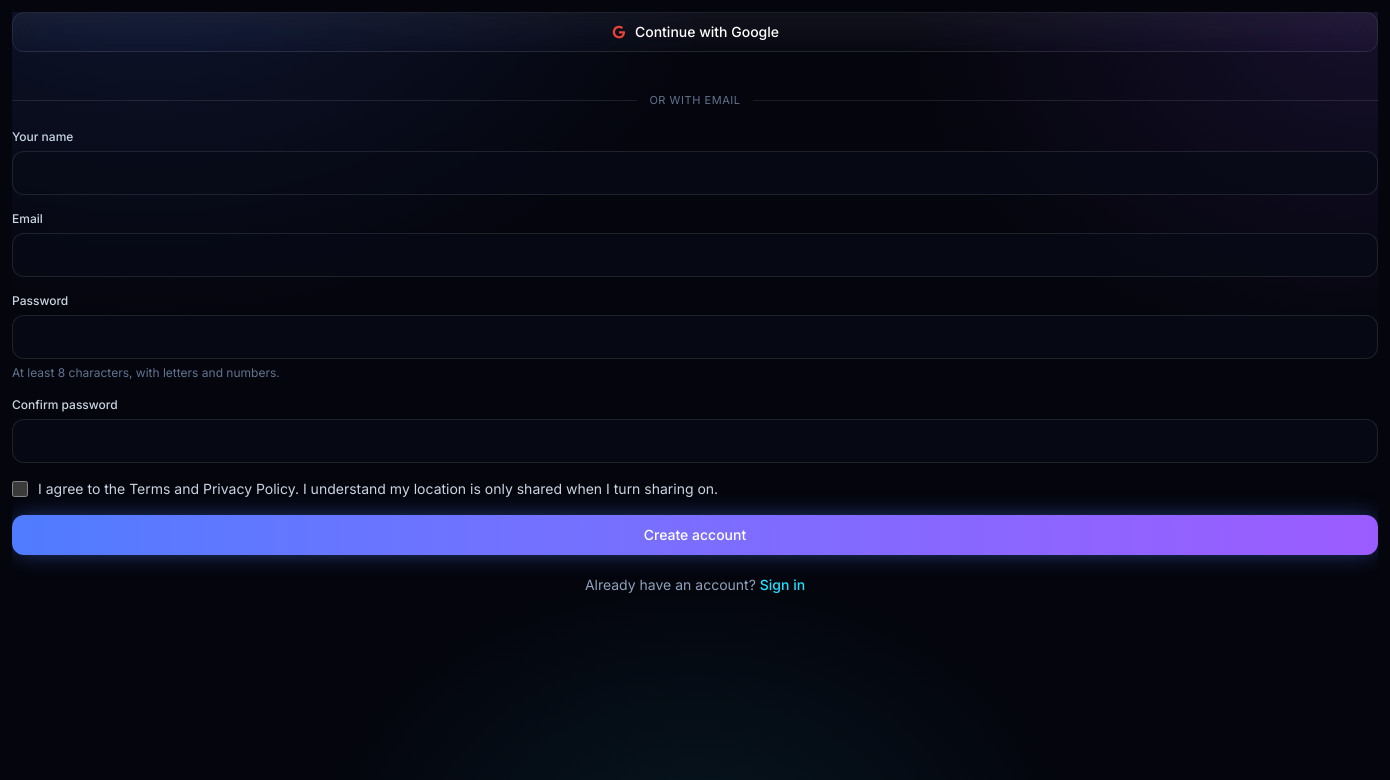
Scenario: RegisterForm › rejects mismatched passwords
Type "Ann Lee" into the field labelled "Your name" at (695, 172), box [12,150,1378,194]
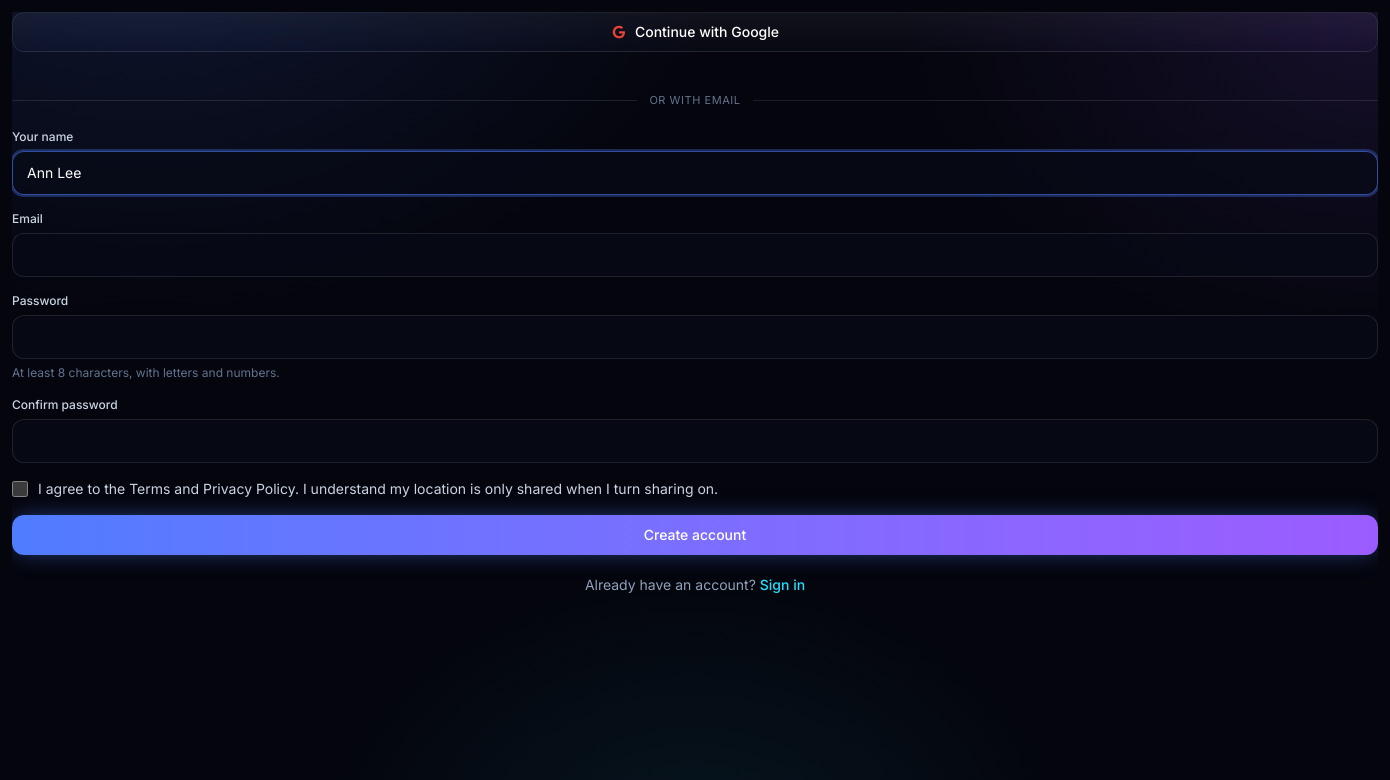
Type "ann@example.com" into the field labelled "Email" at (695, 254), box [12,232,1378,276]
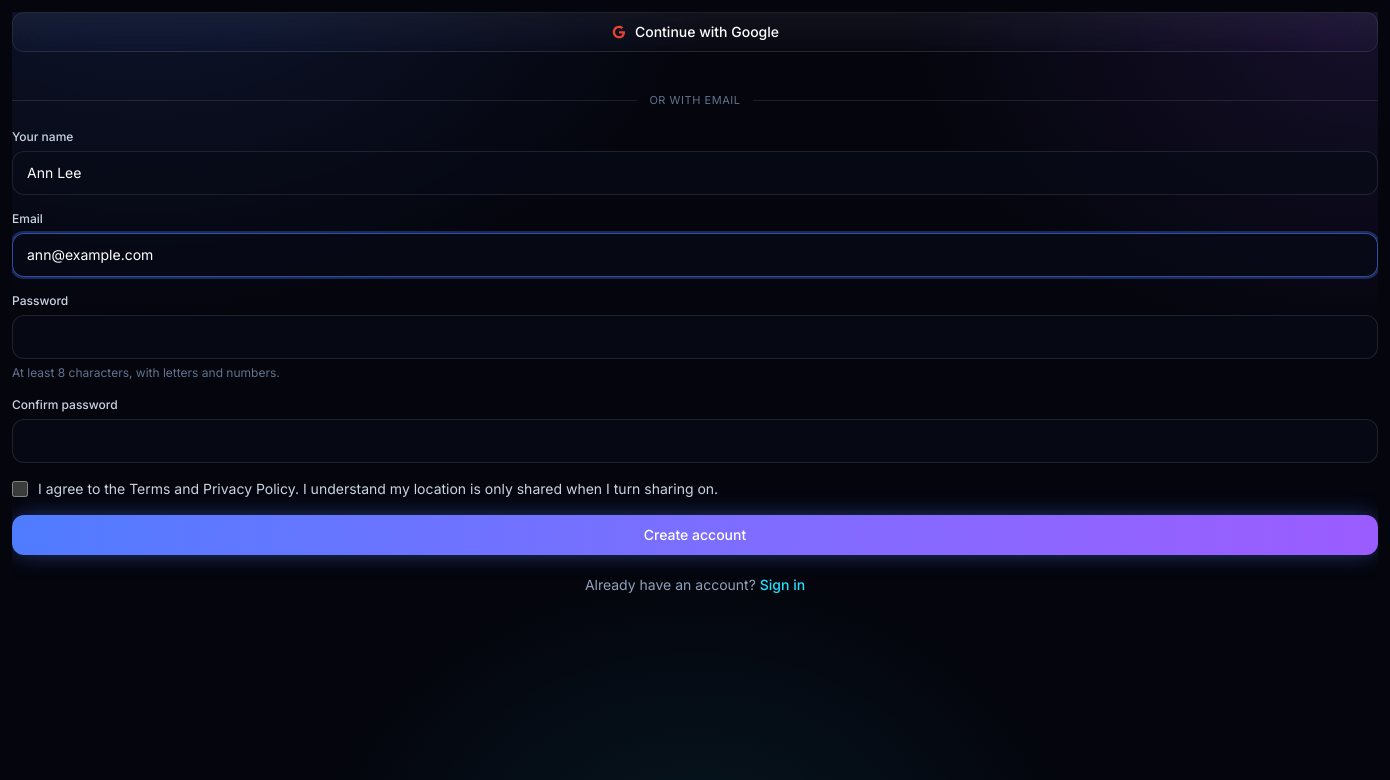
Type "safe1234" into the password field labelled "Password" at (695, 336), box [12,314,1378,358]
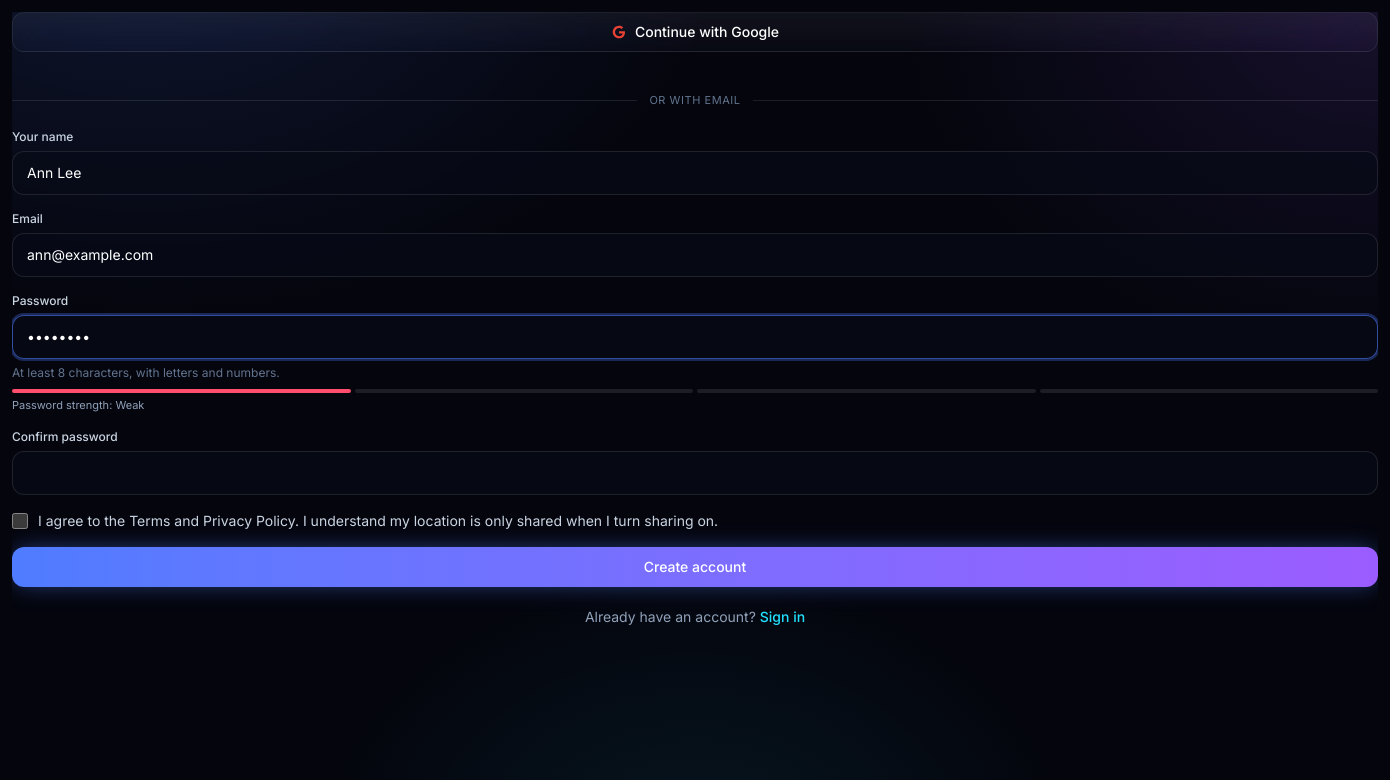
Type "different1" into the password field labelled "Confirm password" at (695, 473), box [12,451,1378,495]
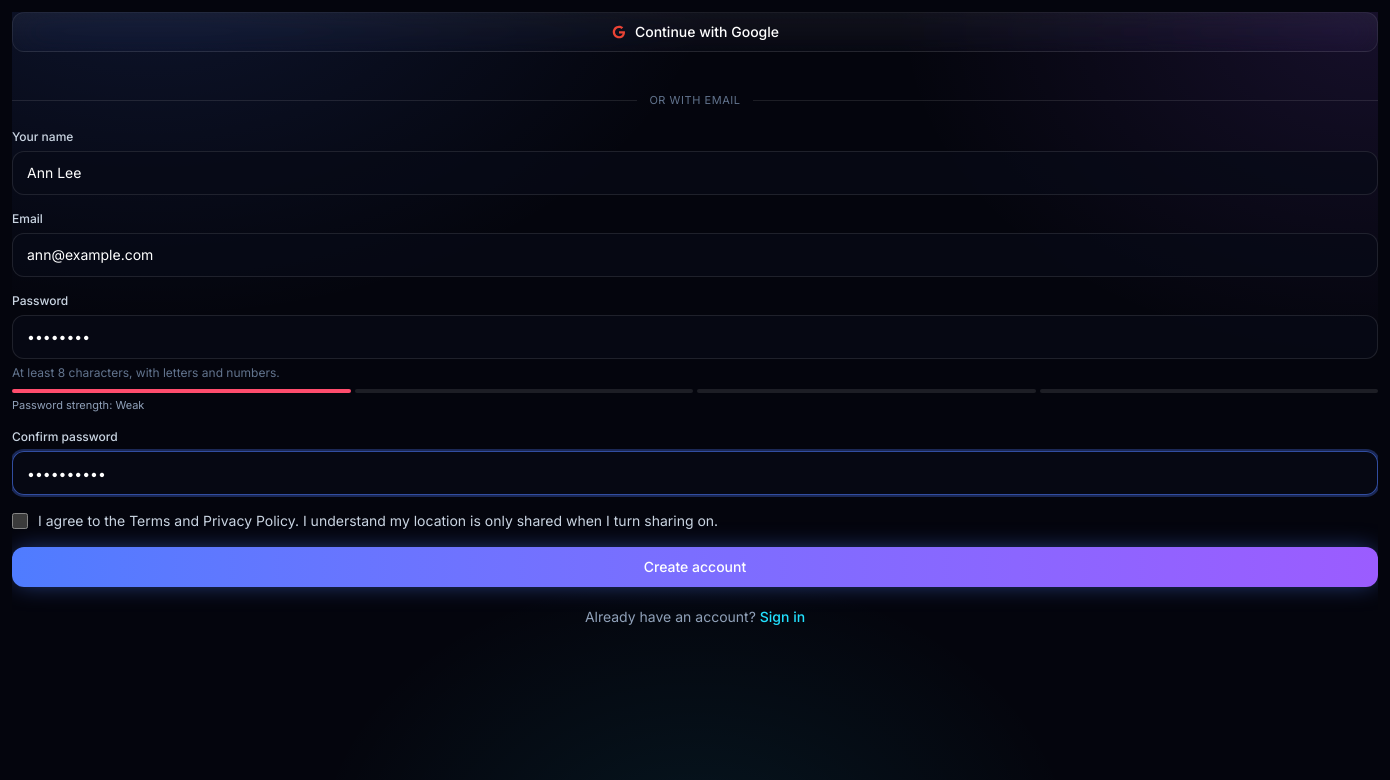
Click the checkbox at (20, 521), box [12,513,28,529]
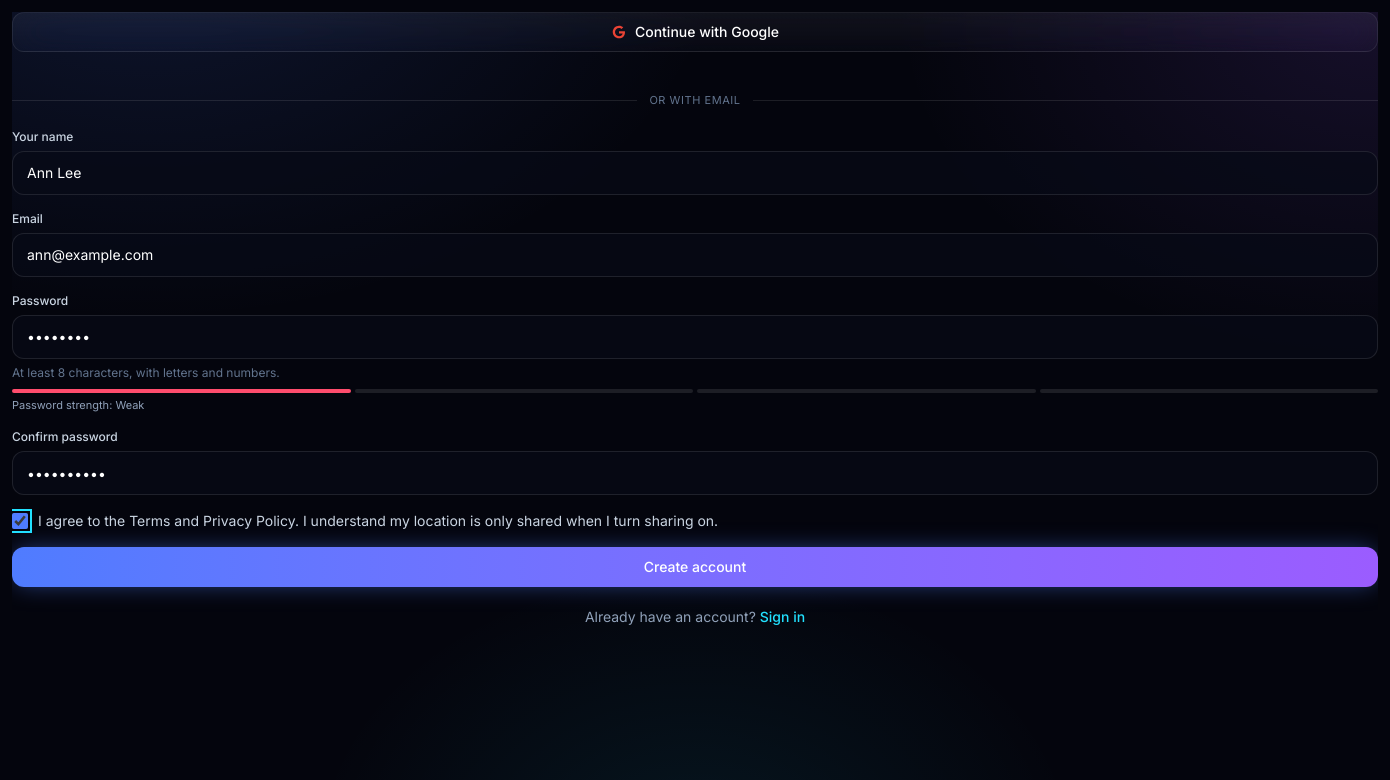
Click the button "Create account" at (695, 567), box [12,547,1378,587]
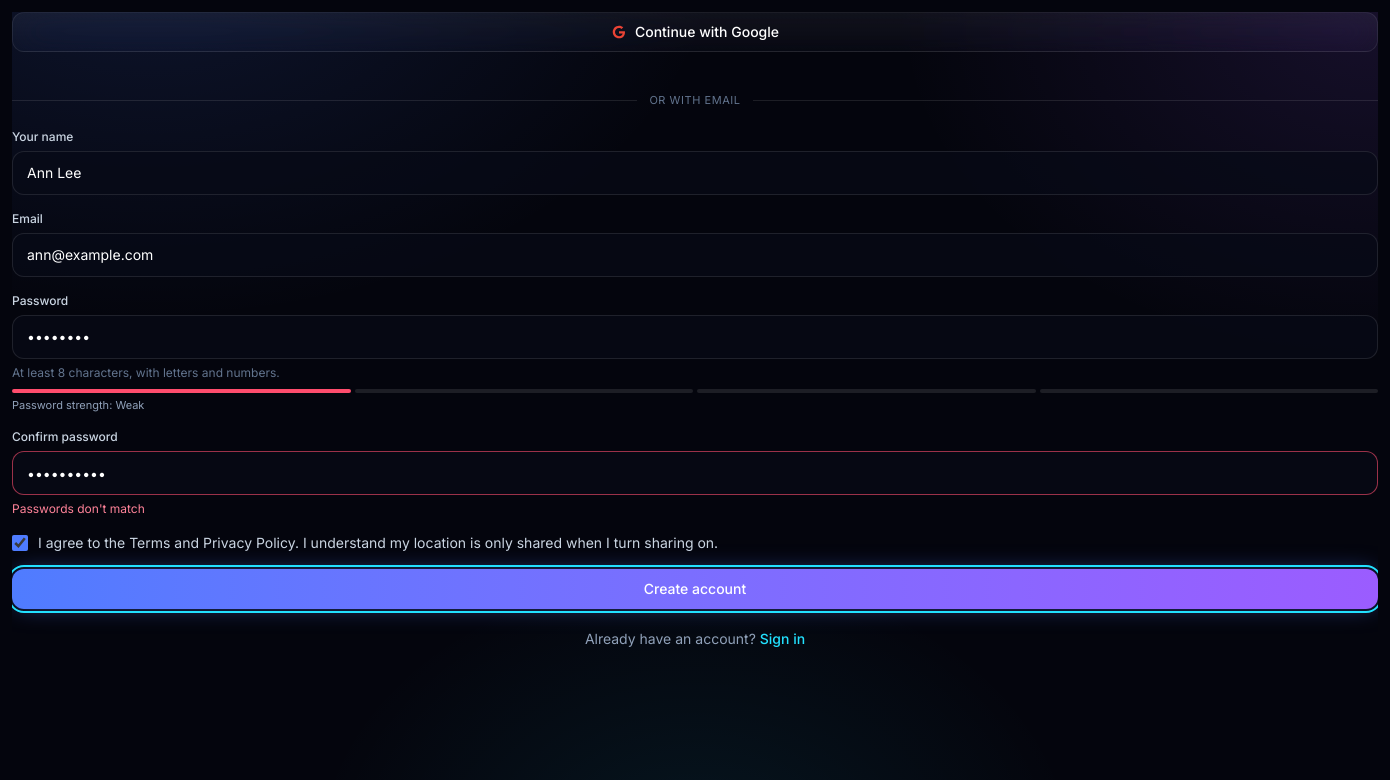
Check: the text "Passwords don't match" is shown, box [12,501,145,516]
